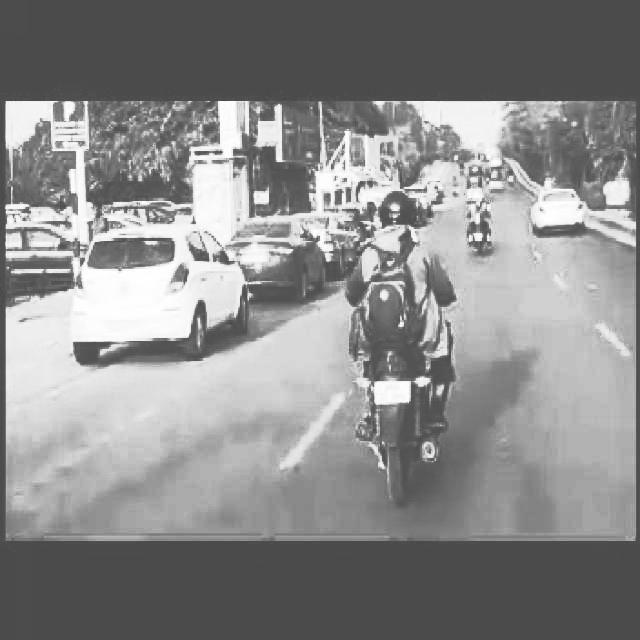Car: (73, 223, 261, 354), (235, 209, 333, 303), (0, 208, 87, 302), (311, 196, 379, 278), (529, 178, 600, 240)
